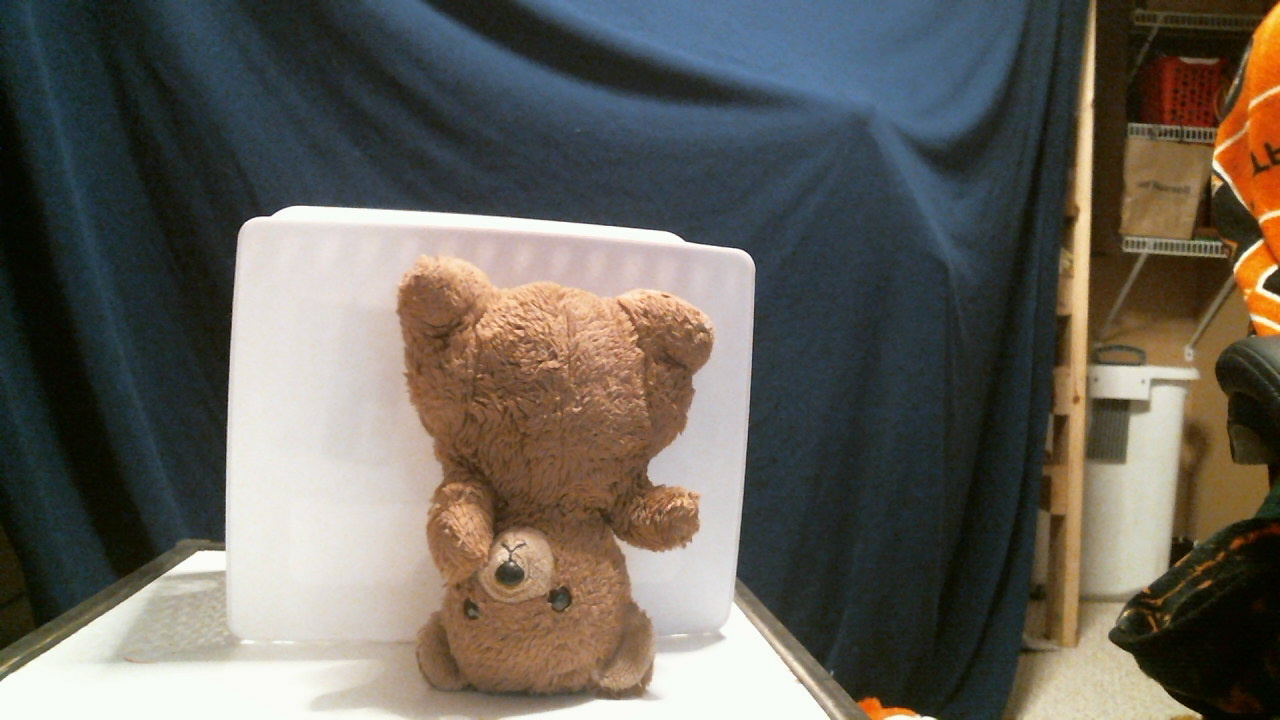Little_Mister_Bear: (461, 531, 581, 640)
